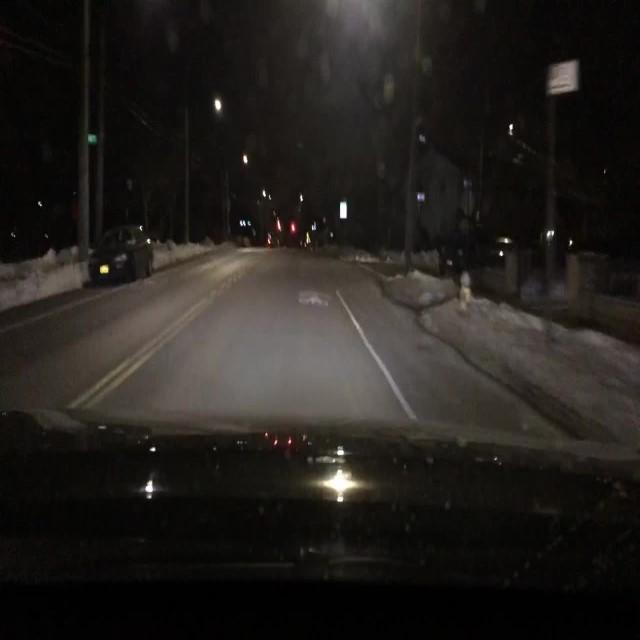normal: (65, 210, 166, 310)
